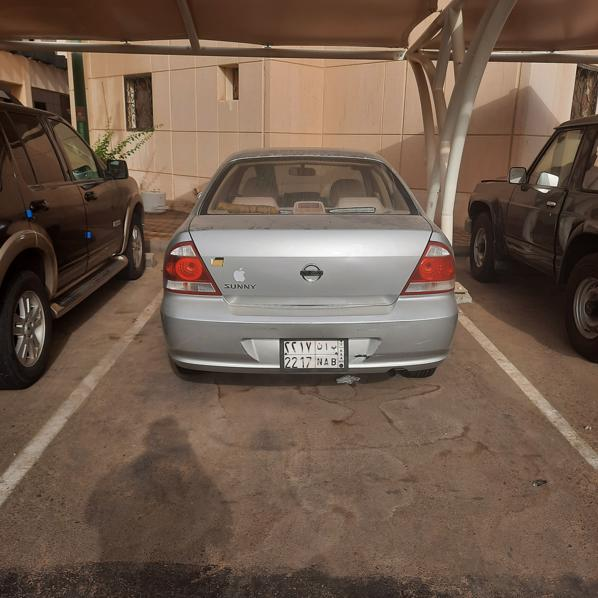numberplate: (283, 340, 346, 369)
